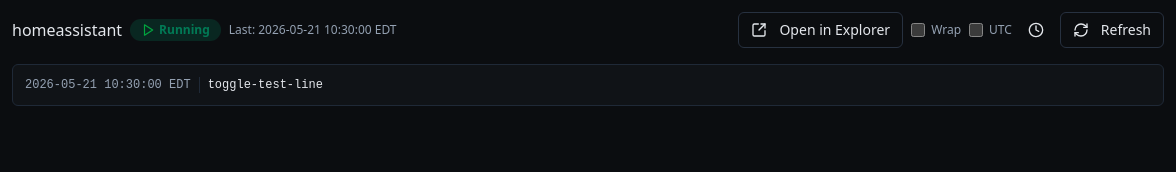
Test: DockerContainerLogsViewerBody › clicking the UTC timezone toggle flips both row and header timestamps
The image size is (1176, 172).
Expected: the element with test id "logs-body" shows "2026-05-21 10:30:00 EDT", [25,78,191,92]
Expected: the text with test id "last-log-at" shows "2026-05-21 10:30:00 EDT", [258,21,396,38]
What coordinates should you click on to do the following:
click the checkbox labelled "UTC"
I would click on:
 (976, 30)
Its box is [969,23,983,37].
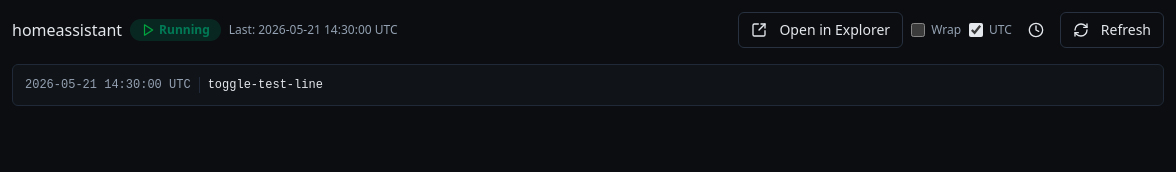
Expected: the checkbox labelled "UTC" is checked, [969,23,983,37]
Expected: the element with test id "logs-body" shows "2026-05-21 14:30:00 UTC", [25,78,191,92]
Expected: the text with test id "last-log-at" shows "2026-05-21 14:30:00 UTC", [258,21,398,38]
